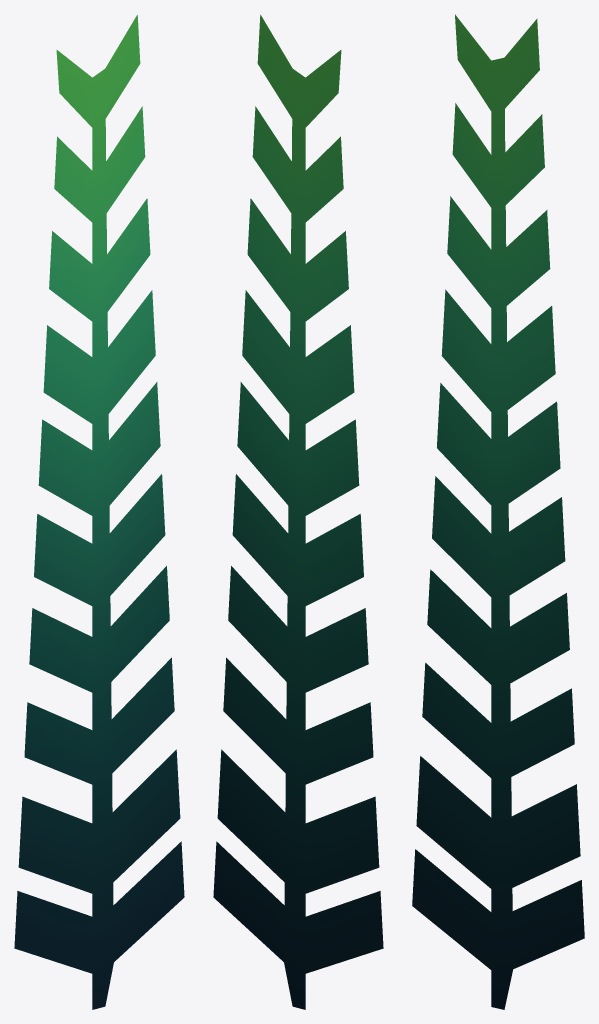
Rendered from kelp1.fbx.
3 views of the same model, side by side, from view 1: azimuth 30°, elevation 25°; view 2: azimuth 150°, elevation 25°; view 3: azimuth 330°, elevation 25° (orthographic).
Parts seen in each view (by area): view 1: kelp1; view 2: kelp1; view 3: kelp1.
Boxes of the visible parts, bbox=[...] form: kelp1: bbox=[14, 14, 184, 1009]; kelp1: bbox=[213, 14, 383, 1009]; kelp1: bbox=[412, 14, 584, 1009].
Bounding box in the file's own units: 0.00462 × 0.0255 × 1.39e-17.
Materials: 1 (1 with a texture image).
